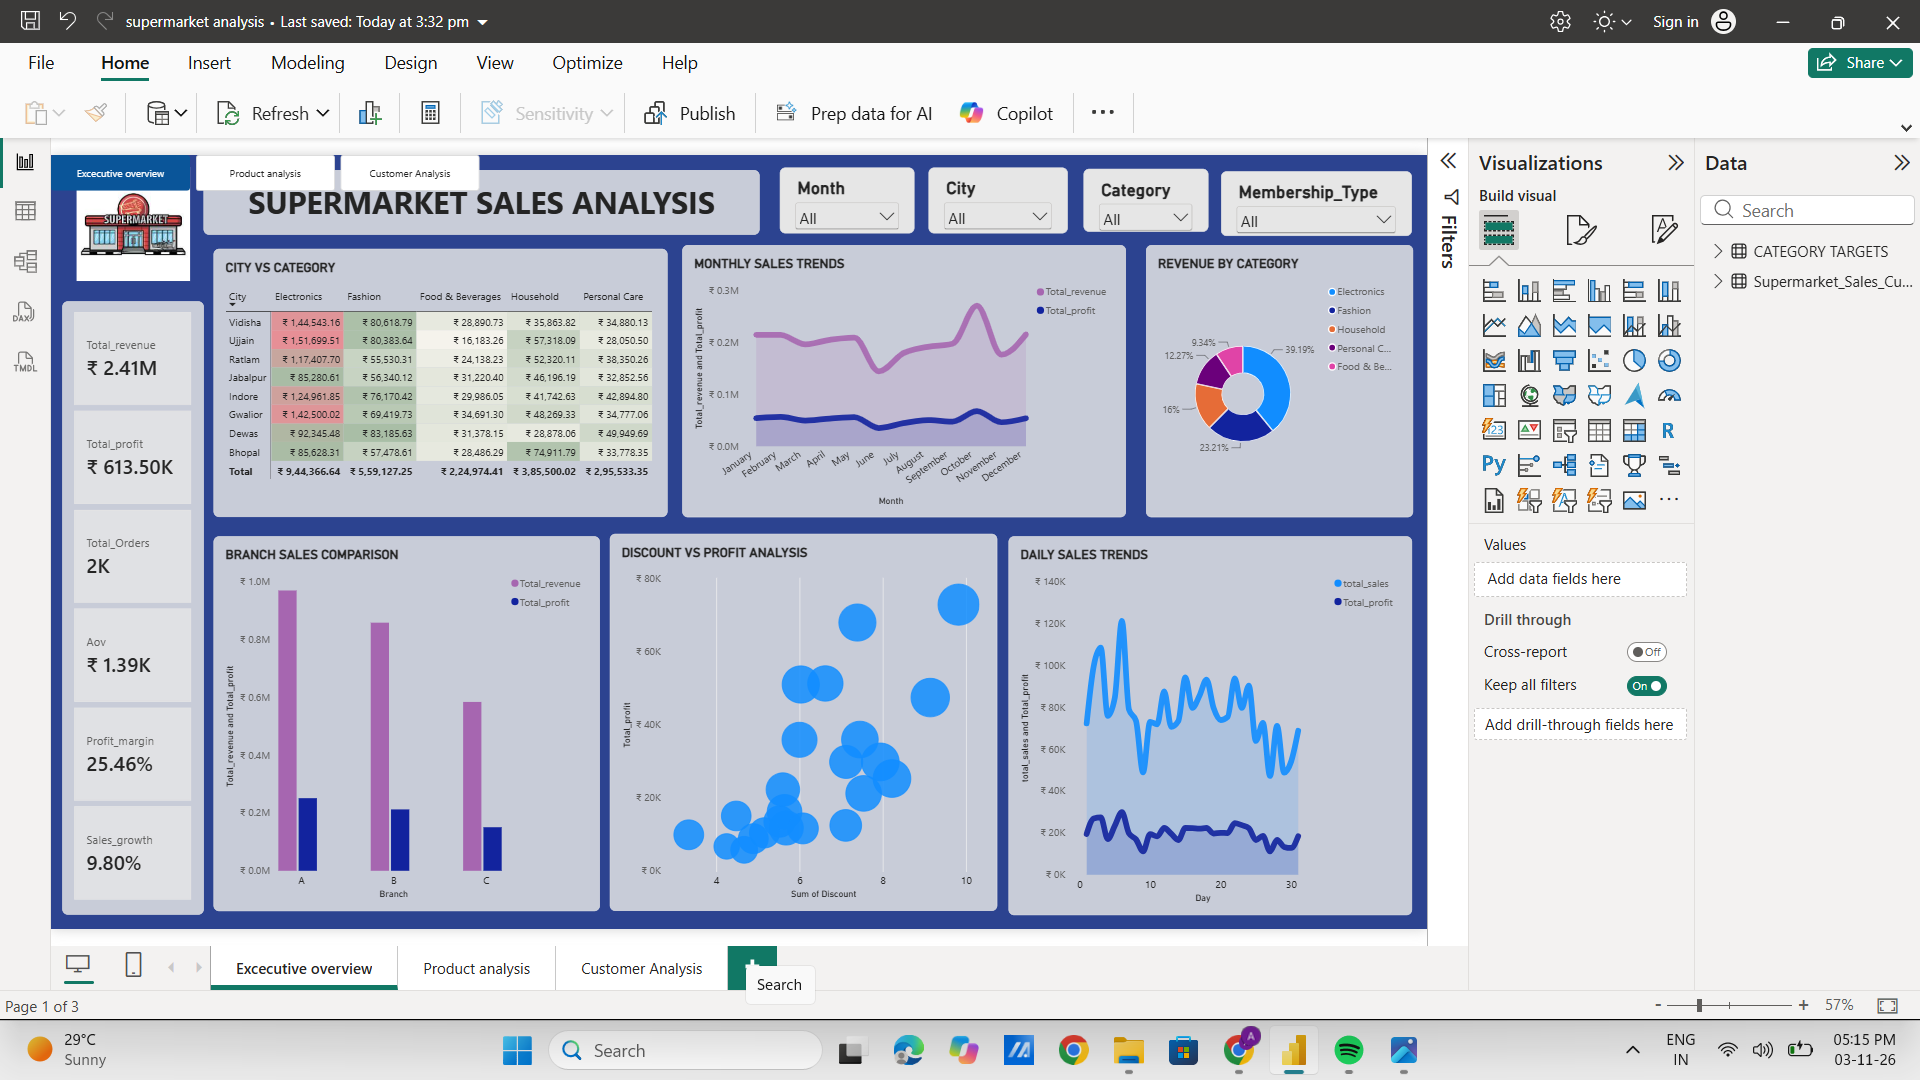

The dashboard page shown, as its layout file describes it:
{"tool":"powerbi","page":{"name":"Excecutive overview","canvas":[1920,1080],"ordinal":0},"visuals":[{"type":"cardVisual","fields":{"Data":["Supermarket_Sales_Customer_Analysis_RAW (2).Total_revenue","Supermarket_Sales_Customer_Analysis_RAW (2).Total_profit","Supermarket_Sales_Customer_Analysis_RAW (2).Total_Orders","Supermarket_Sales_Customer_Analysis_RAW (2).Aov","Supermarket_Sales_Customer_Analysis_RAW (2).Profit_margin","Supermarket_Sales_Customer_Analysis_RAW (2).Sales_growth"]},"box":[16.3,204.5,197.3,856],"z":0},{"type":"slicer","fields":{"Values":["Supermarket_Sales_Customer_Analysis_RAW (2).Order_Date.Variation.Date Hierarchy.Month"]},"box":[1016,18,188,92],"z":1000},{"type":"slicer","fields":{"Values":["Supermarket_Sales_Customer_Analysis_RAW (2).City"]},"box":[1224,18,194,92],"z":2000},{"type":"slicer","fields":{"Values":["Supermarket_Sales_Customer_Analysis_RAW (2).Category"]},"box":[1440,20,174,88],"z":3000},{"type":"lineChart","title":"MONTHLY SALES TRENDS ","fields":{"Category":["Supermarket_Sales_Customer_Analysis_RAW (2).Order_Date.Variation.Date Hierarchy.Month"],"Y":["Supermarket_Sales_Customer_Analysis_RAW (2).Total_revenue","Supermarket_Sales_Customer_Analysis_RAW (2).Total_profit"]},"box":[881.3,124.9,618.9,380],"z":4000},{"type":"donutChart","title":"REVENUE BY CATEGORY ","fields":{"Category":["Supermarket_Sales_Customer_Analysis_RAW (2).Category"],"Y":["Supermarket_Sales_Customer_Analysis_RAW (2).Total_revenue"]},"box":[1527.4,124.9,372.8,380],"z":5000},{"type":"clusteredColumnChart","title":"BRANCH SALES COMPARISON ","fields":{"Category":["Supermarket_Sales_Customer_Analysis_RAW (2).Branch"],"Y":["Supermarket_Sales_Customer_Analysis_RAW (2).Total_revenue","Supermarket_Sales_Customer_Analysis_RAW (2).Total_profit"]},"box":[226.2,532,539.3,523],"z":6000},{"type":"scatterChart","title":"DISCOUNT VS PROFIT ANALYSIS ","fields":{"Category":["Supermarket_Sales_Customer_Analysis_RAW (2).Product"],"Size":["Sum(Supermarket_Sales_Customer_Analysis_RAW (2).Quantity)"],"X":["Sum(Supermarket_Sales_Customer_Analysis_RAW (2).Discount)"],"Y":["Supermarket_Sales_Customer_Analysis_RAW (2).Total_profit"]},"box":[780,528.4,541.1,526.6],"z":7000},{"type":"textbox","box":[213.5,21.7,776.3,90.5],"z":8000},{"type":"image","box":[16,18,198,158],"z":9000},{"type":"pivotTable","title":"CITY VS CATEGORY","fields":{"Columns":["Supermarket_Sales_Customer_Analysis_RAW (2).Category"],"Rows":["Supermarket_Sales_Customer_Analysis_RAW (2).City"],"Values":["Supermarket_Sales_Customer_Analysis_RAW (2).Total_revenue"]},"box":[226.2,130.3,633.4,374.6],"z":10000},{"type":"slicer","fields":{"Values":["Supermarket_Sales_Customer_Analysis_RAW (2).Membership_Type"]},"box":[1632,22,266,90],"z":11000},{"type":"areaChart","title":"DAILY SALES TRENDS ","fields":{"Category":["Supermarket_Sales_Customer_Analysis_RAW (2).Order_Date.Variation.Date Hierarchy.Day"],"Y":["CATEGORY TARGETS.total_sales","Supermarket_Sales_Customer_Analysis_RAW (2).Total_profit"]},"box":[1335.5,532,562.8,528.4],"z":12000},{"type":"pageNavigator","box":[0,0,600,50],"z":13000}]}

Visuals, with their boxes on the page's 1920x1080 design canvas (x1, y1, x2, y2). These are canvas units, not pixel positions in the 1920x1080 screenshot, which may show the page scaled, cropped or inside an application window:
cardVisual - Supermarket_Sales_Customer_Analysis_RAW (2).Total_revenue x Supermarket_Sales_Customer_Analysis_RAW (2).Total_profit: box=[16, 204, 214, 1060]
slicer - Supermarket_Sales_Customer_Analysis_RAW (2).Order_Date.Variation.Date Hierarchy.Month: box=[1016, 18, 1204, 110]
slicer - Supermarket_Sales_Customer_Analysis_RAW (2).City: box=[1224, 18, 1418, 110]
slicer - Supermarket_Sales_Customer_Analysis_RAW (2).Category: box=[1440, 20, 1614, 108]
"MONTHLY SALES TRENDS " lineChart: box=[881, 125, 1500, 505]
"REVENUE BY CATEGORY " donutChart: box=[1527, 125, 1900, 505]
"BRANCH SALES COMPARISON " clusteredColumnChart: box=[226, 532, 766, 1055]
"DISCOUNT VS PROFIT ANALYSIS " scatterChart: box=[780, 528, 1321, 1055]
textbox: box=[214, 22, 990, 112]
image: box=[16, 18, 214, 176]
"CITY VS CATEGORY" pivotTable: box=[226, 130, 860, 505]
slicer - Supermarket_Sales_Customer_Analysis_RAW (2).Membership_Type: box=[1632, 22, 1898, 112]
"DAILY SALES TRENDS " areaChart: box=[1336, 532, 1898, 1060]
pageNavigator: box=[0, 0, 600, 50]
